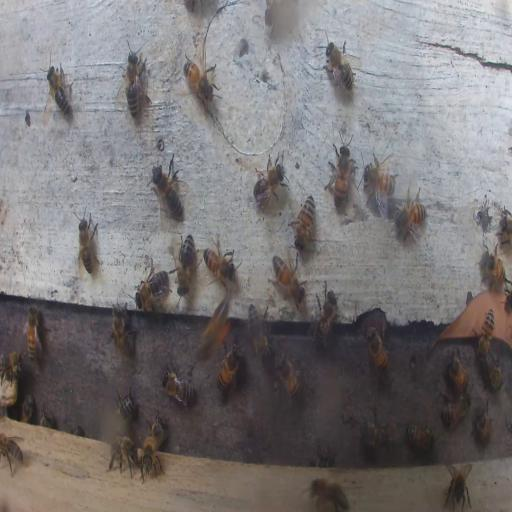bee: (324, 128, 356, 210), (198, 292, 232, 361), (150, 153, 185, 220), (362, 152, 398, 212), (182, 51, 218, 110), (252, 156, 288, 210), (202, 237, 238, 290), (393, 187, 426, 243), (272, 251, 306, 305), (324, 38, 356, 94), (122, 40, 144, 119), (109, 302, 136, 361), (76, 208, 99, 276), (312, 288, 338, 348), (135, 265, 170, 309), (442, 464, 474, 512), (309, 474, 350, 511), (247, 301, 271, 362), (45, 66, 72, 117), (174, 232, 196, 292), (161, 368, 195, 406), (108, 434, 138, 477), (275, 349, 301, 398), (292, 194, 316, 247), (216, 340, 240, 390), (440, 392, 471, 428), (363, 411, 390, 452), (480, 244, 506, 286), (1, 349, 22, 400), (366, 325, 388, 372), (0, 433, 24, 476), (444, 351, 469, 392), (404, 423, 436, 451), (25, 304, 40, 362), (144, 411, 165, 452), (479, 306, 494, 360), (472, 404, 492, 444), (142, 437, 160, 479), (116, 388, 134, 418), (488, 355, 502, 391), (498, 210, 512, 246), (21, 393, 35, 424), (315, 446, 331, 469), (41, 408, 55, 427)
